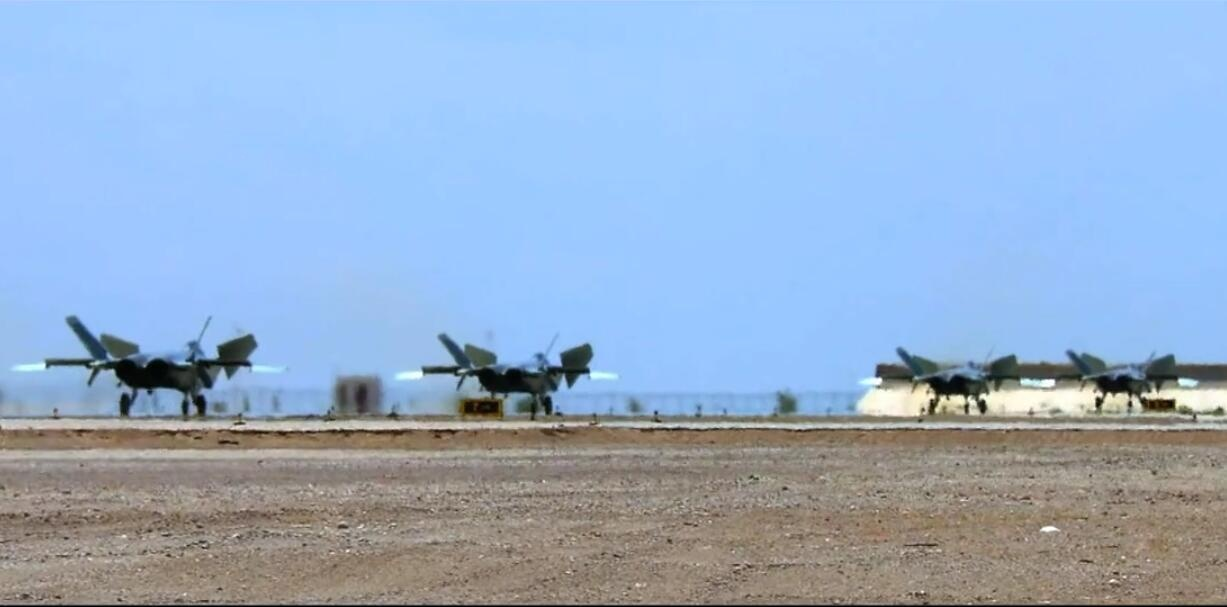J20: (10, 314, 290, 416), (394, 330, 620, 415), (856, 344, 1056, 415), (1051, 348, 1200, 410)
